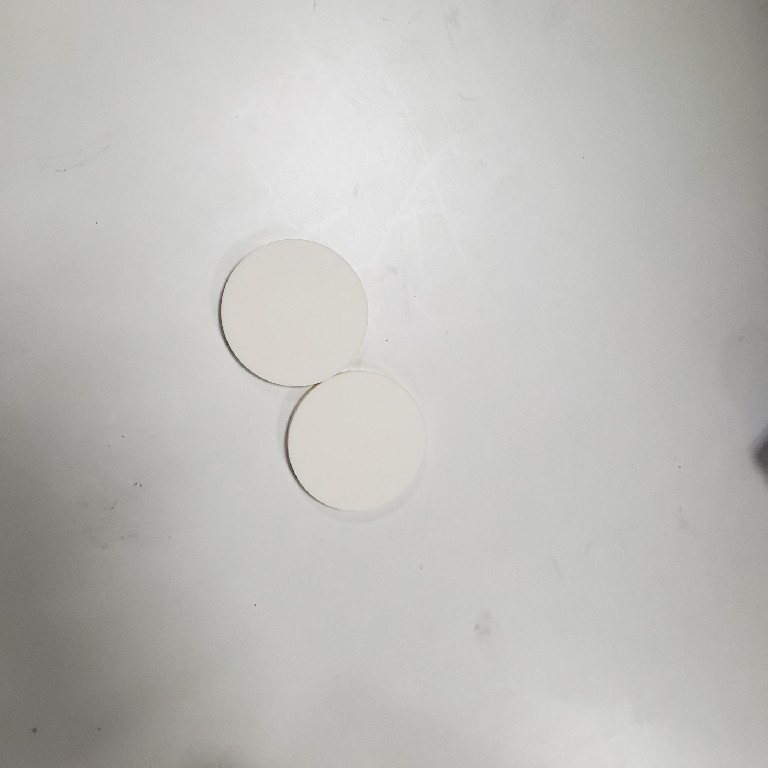ceramics: (216, 233, 429, 519)
